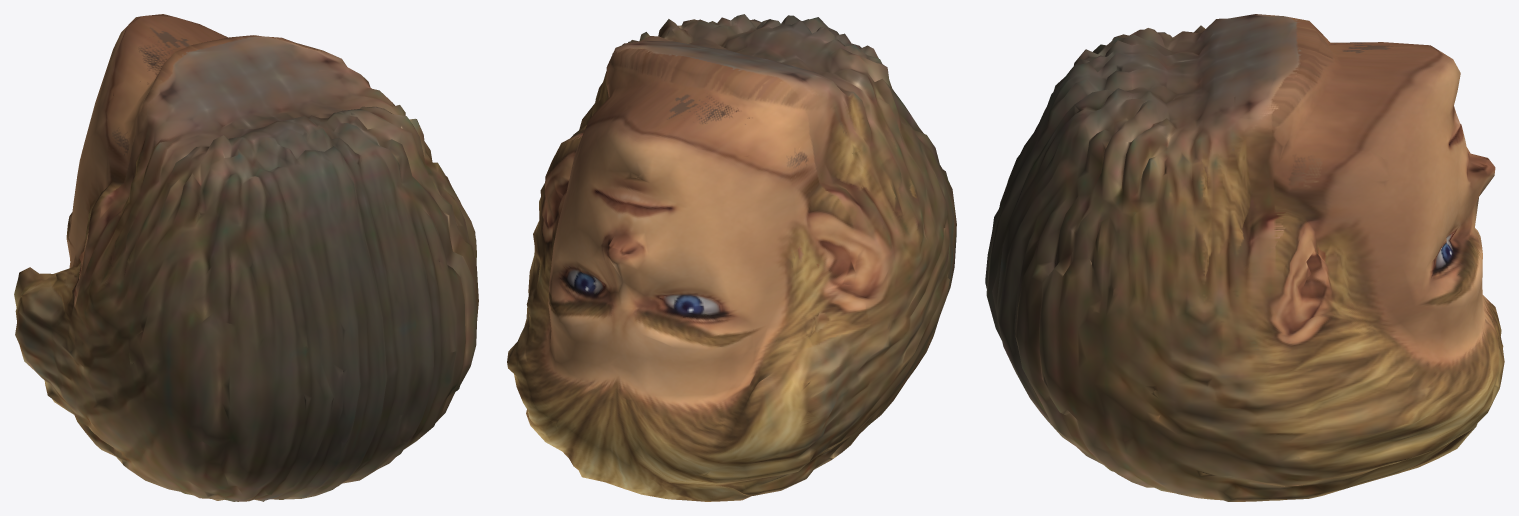
File: field-fitted-head.glb
The picture shows the model from 3 angles, left to right: view 1: azimuth 30°, elevation 25°; view 2: azimuth 150°, elevation 25°; view 3: azimuth 270°, elevation 25°; orthographic projection. The views are drawn at different scales.
Visible parts, largest first — view 1: world; view 2: world; view 3: world.
Boxes of the visible parts, left/top/right/bottom form: world: left=14, top=14, right=478, bottom=501; world: left=507, top=14, right=956, bottom=501; world: left=985, top=14, right=1504, bottom=501.
Bounding box in the file's own units: 15.15 × 16.82 × 17.96.
Materials: 1 (1 with a texture image).
